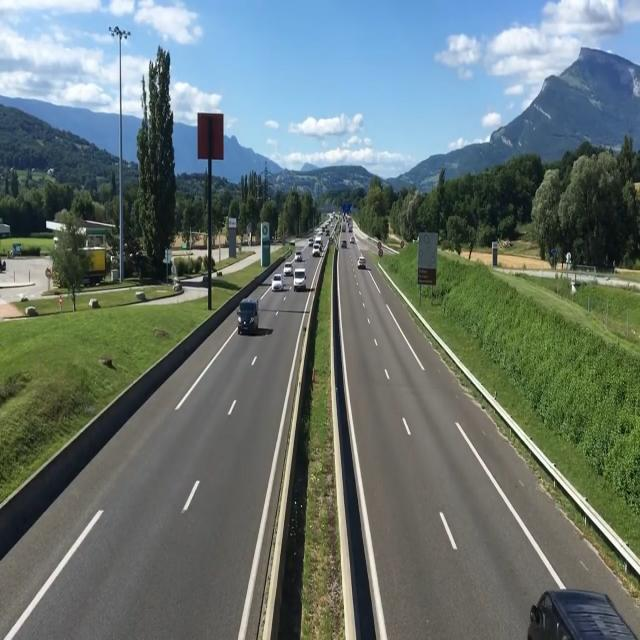car: (532, 580, 634, 640), (236, 293, 263, 341), (291, 267, 310, 296), (270, 271, 284, 297), (357, 251, 367, 272)
